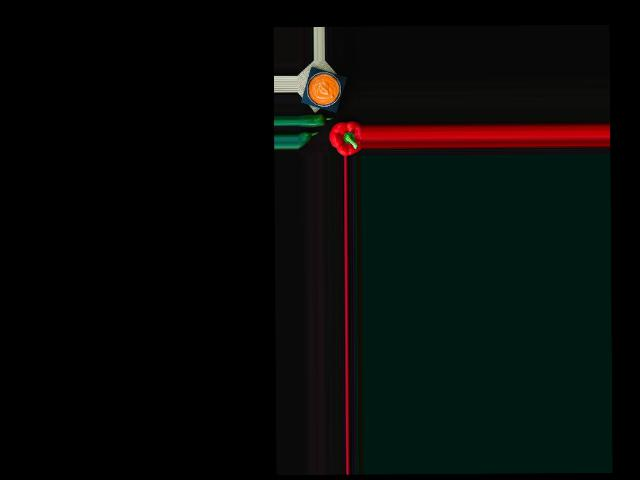bell_pepper: (330, 121, 361, 155)
